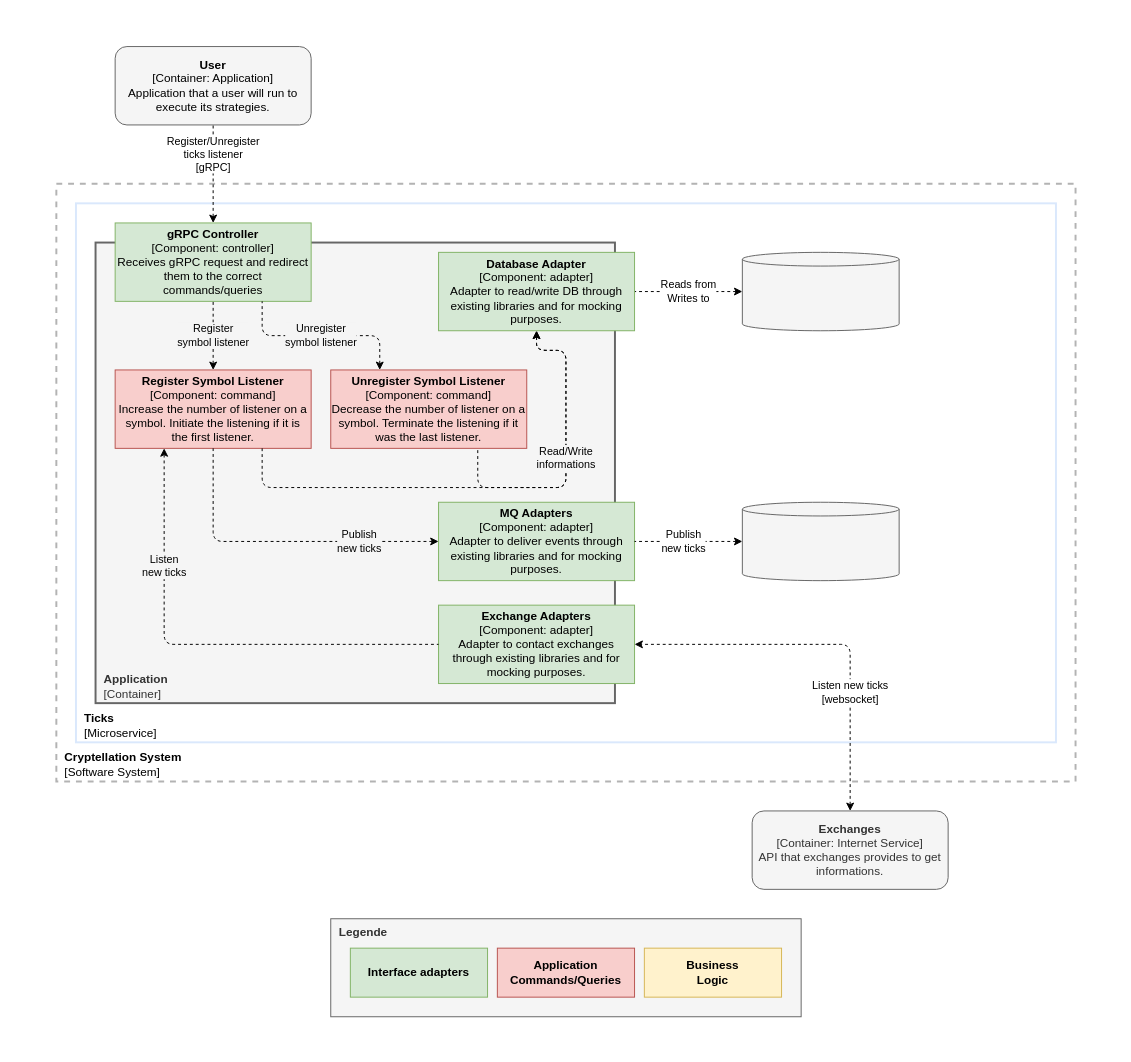
The diagram is 1131 pixels wide and 1062 high, and some of its shapes have lost their labels. Each missing label, with the centre of its shape:
"Database [Container: SQL] Store ticks subscriptions informations" goes at pixel 820 291.
"Message Broker [Container: NATS] Publish/Receive messages asynchronously" goes at pixel 820 541.
